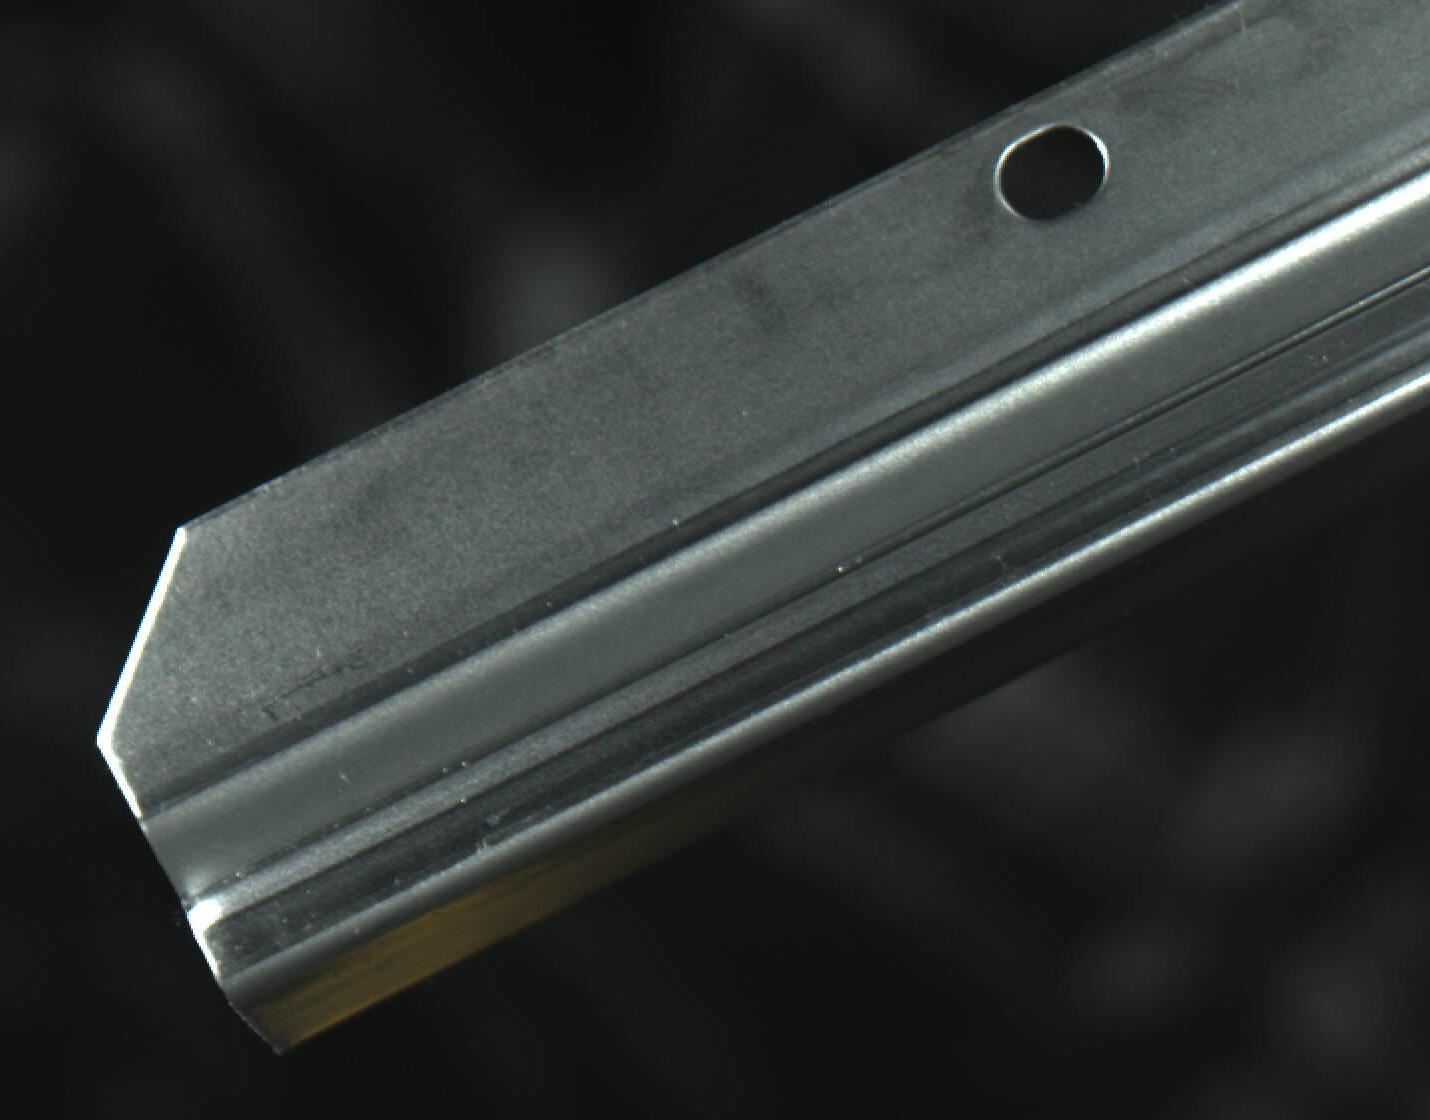cut: (39, 389, 660, 1077)
holes: (992, 117, 1114, 227)
